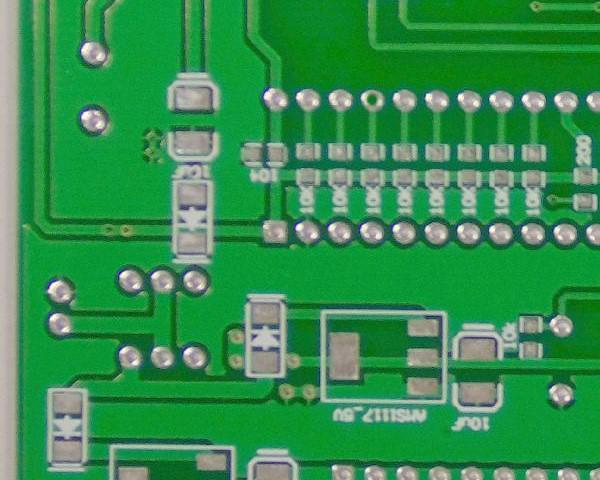missing hole: (356, 84, 389, 116)
